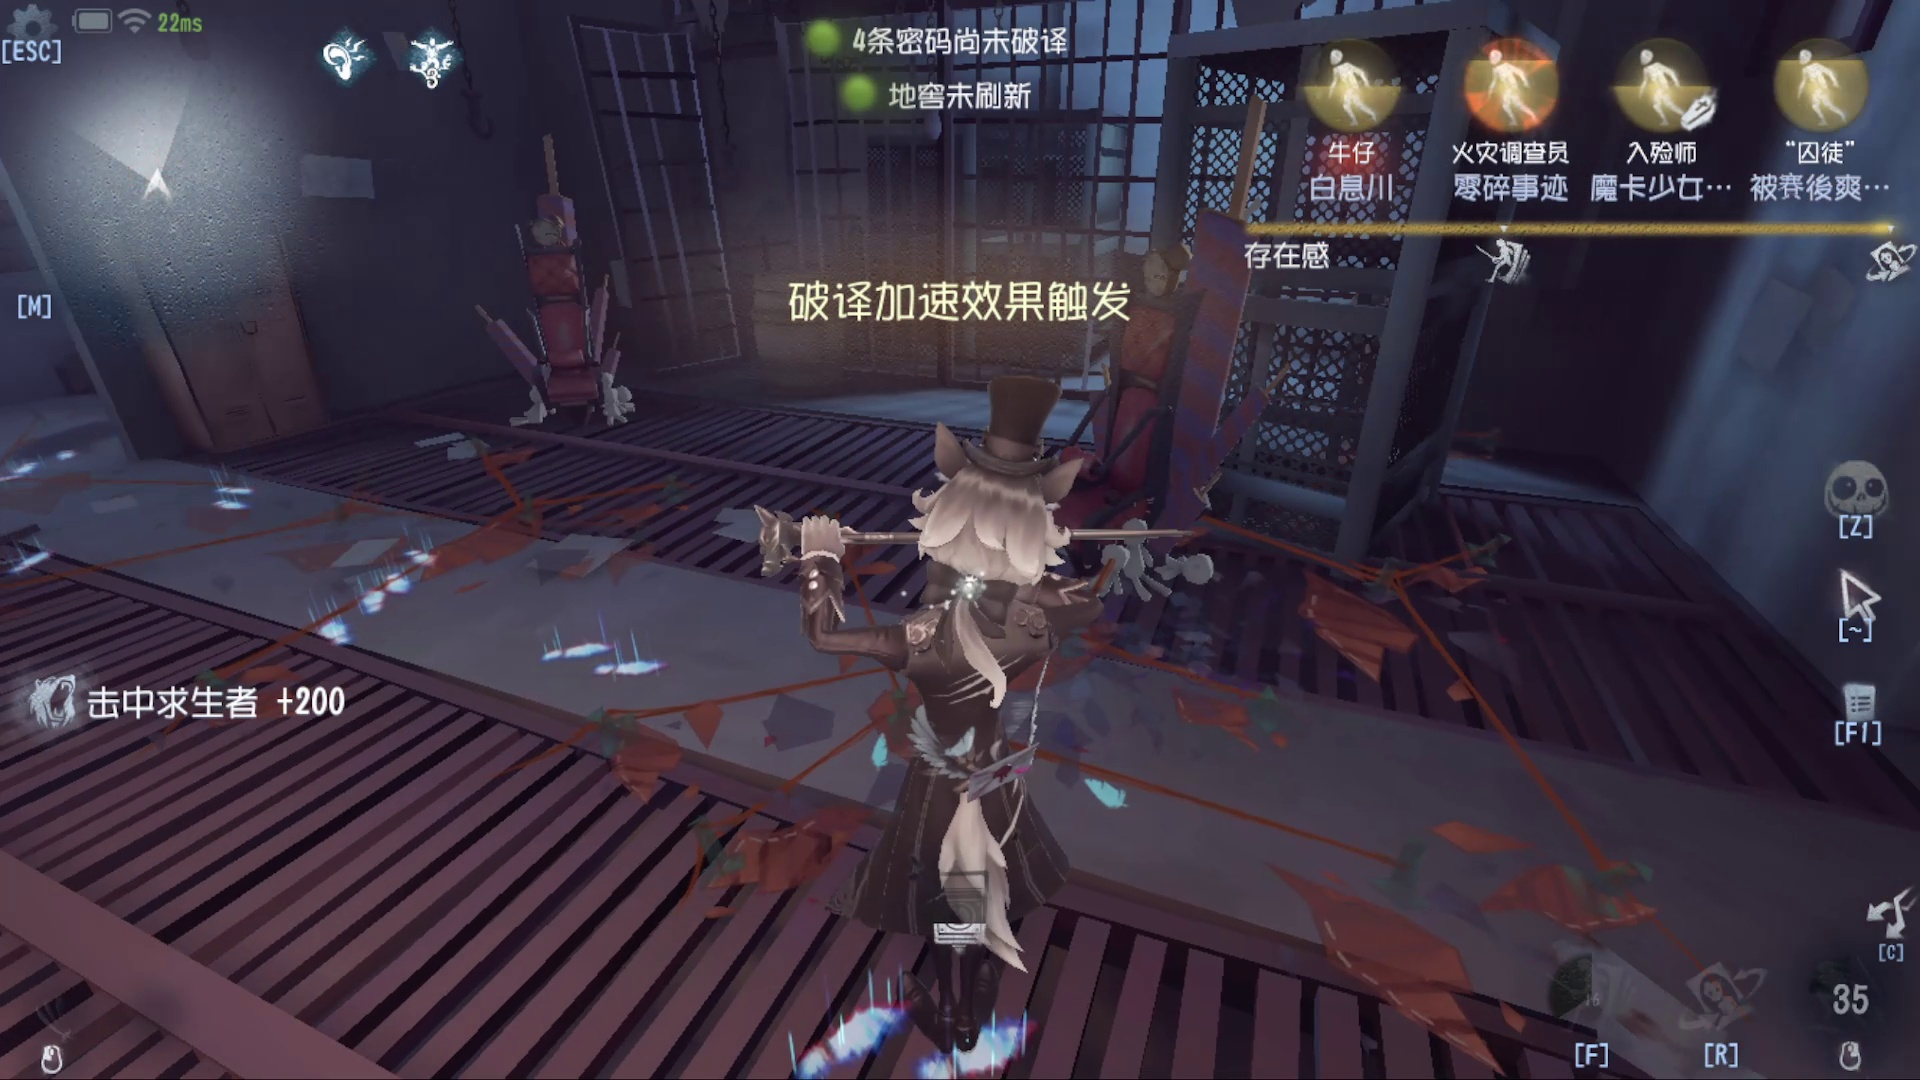狂欢之椅: (1044, 185, 1220, 624), (479, 128, 644, 448)
